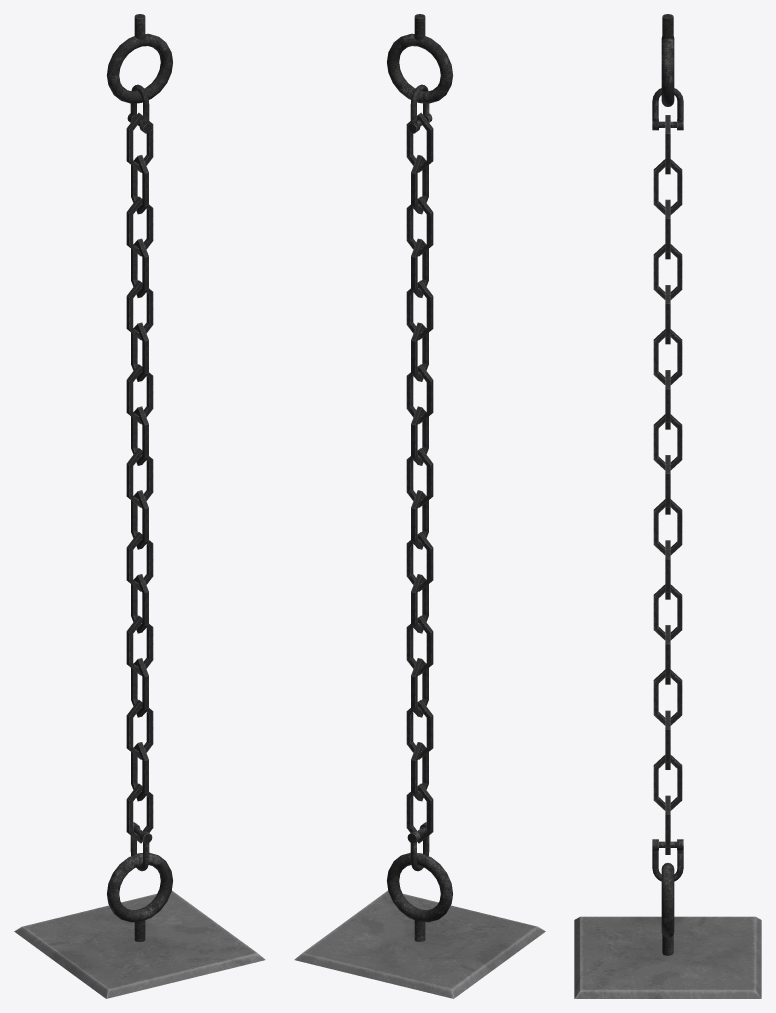
File: chain_03_long.fbx
The picture shows the model from 3 angles, left to right: view 1: azimuth 30°, elevation 25°; view 2: azimuth 150°, elevation 25°; view 3: azimuth 270°, elevation 25°; orthographic projection.
Parts seen in each view (by area): view 1: chain_03_long; view 2: chain_03_long; view 3: chain_03_long.
Part boxes in pixels (<box>): chain_03_long: <box>14,14,265,998</box>; chain_03_long: <box>294,14,545,998</box>; chain_03_long: <box>574,14,761,998</box>.
Bounding box in the file's own units: 80.36 × 447 × 80.36.
